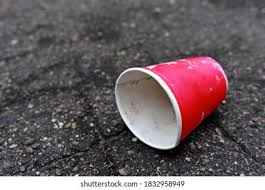cup: (114, 54, 228, 149)
